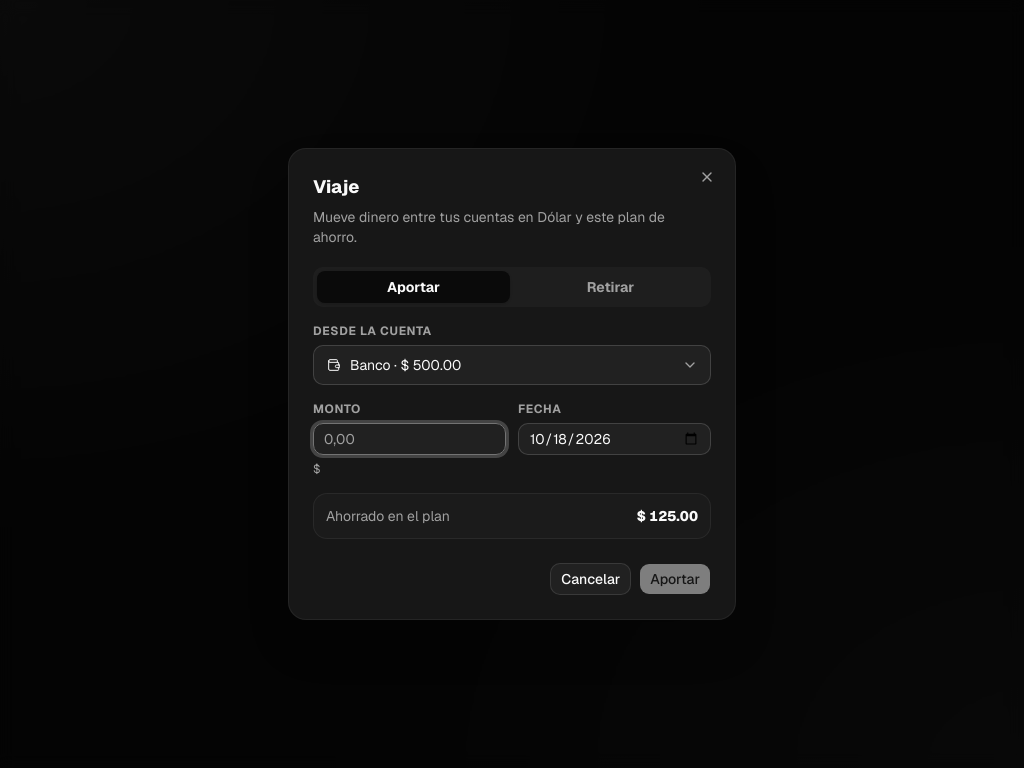
Test: GoalContributionDialog — retirar › avisa qué parte del retiro entra a la cuenta como ingreso
This screenshot has width=1024, height=768.
Click the button "Retirar" at (610, 287), box [514,271,707,303]
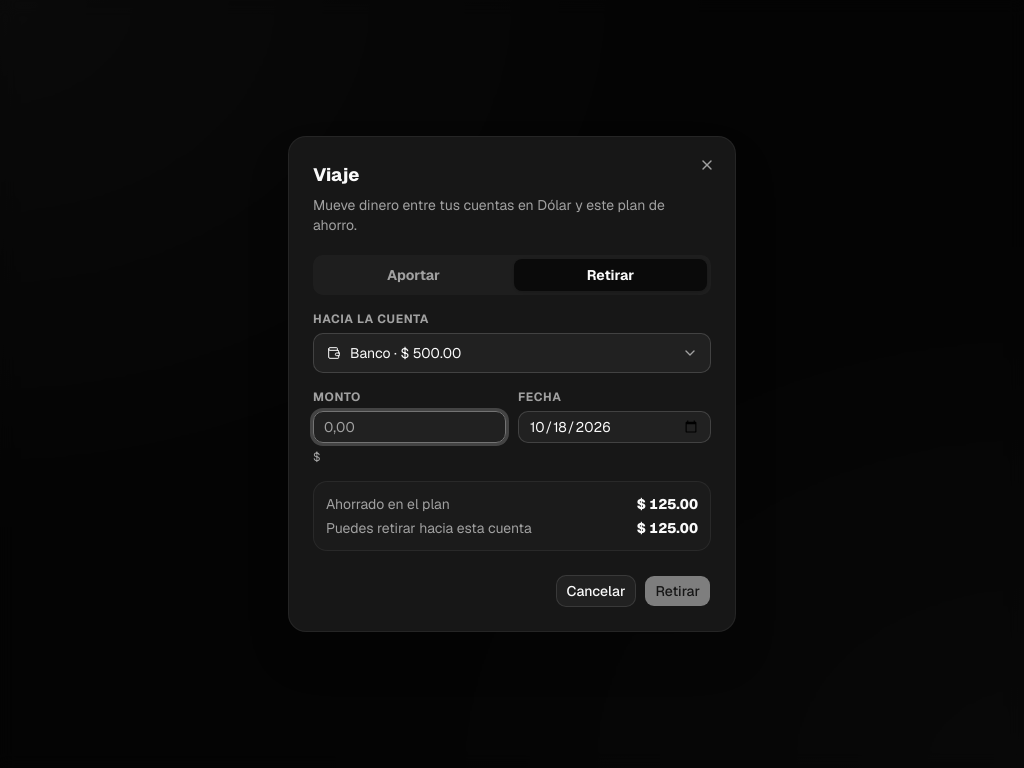
Type "110" into the field with placeholder "0,00" at (410, 427), box [313,411,506,443]
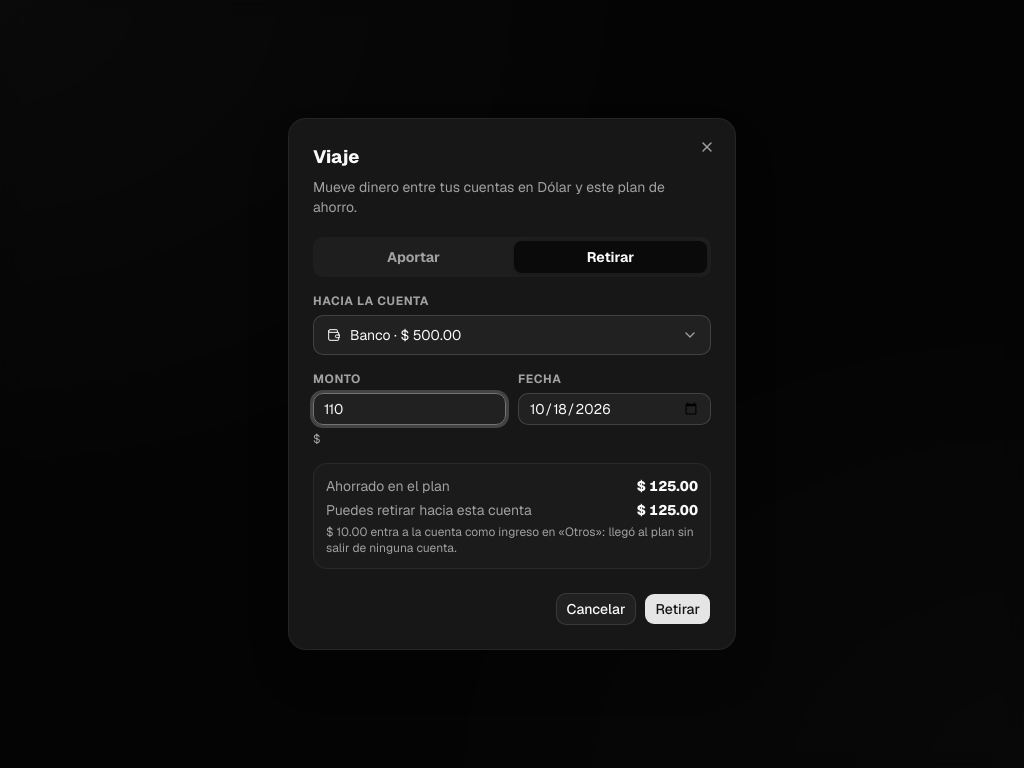
Check: the text "entra a la cuenta como ingreso" shows "$ 10.00", box [326,524,367,540]
Check: the 2nd button "Retirar" is enabled, box [644,593,711,625]
